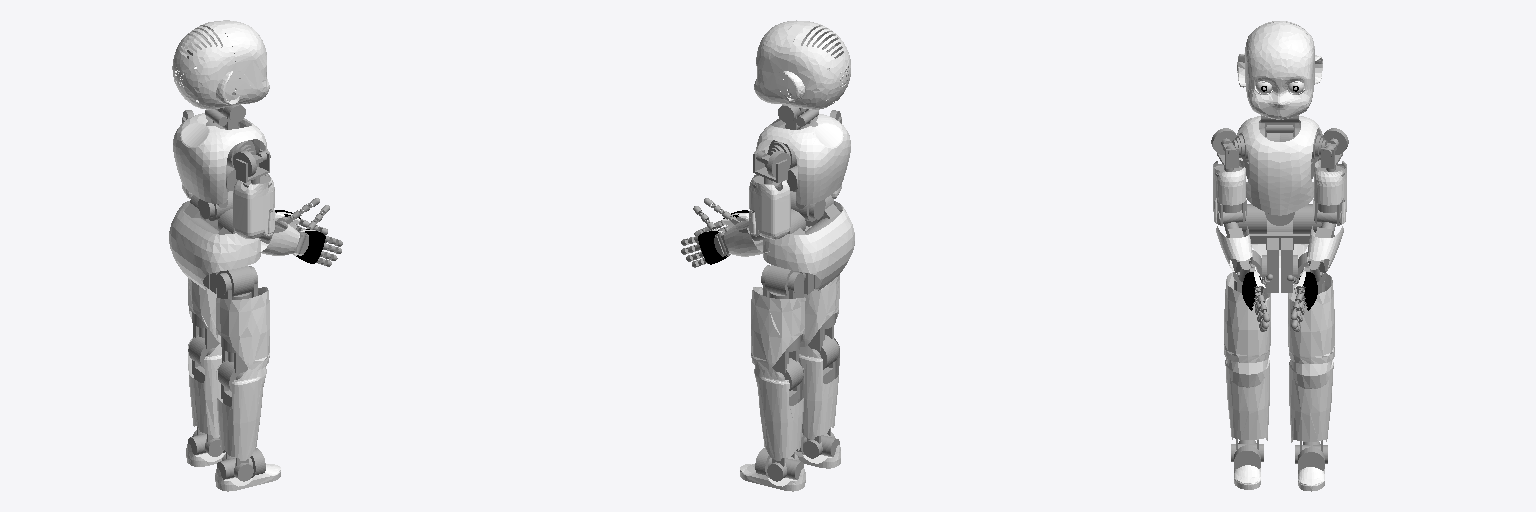
--- What the picture shows (computed from the rendered views, not written in the file) ---
Views: 3 orthographic renders of the robot side by side, from view 1: azimuth 30°, elevation 25°; view 2: azimuth 150°, elevation 25°; view 3: azimuth 270°, elevation 25°.
Model ICub with 94 links and 93 joints (68 revolute, 25 fixed), rooted at base_link, posed joints at zero except 2 at the middle of their limits (raj4 = 1.06, laj4 = 1.06).
Visible links, largest first — view 1: l6, l3, l0, rl3, rl4, ll4, ra3, ll3, rl2, ra5, ra2, rl6 (+2 smaller); view 2: l6, l3, l0, ll3, ll4, rl4, la3, rl3, ll2, la5, la2, ll6 (+2 smaller); view 3: l6, l3, ll4, rl4, ll3, rl3, l0, ra3, la3, la5, ra5, ra2 (+9 smaller).
Boxes of the visible links, x1,y1,x2,y2 form: l6: (172,20,269,109); l3: (173,101,267,203); l0: (169,195,260,289); rl3: (216,287,269,391); rl4: (216,362,266,481); ll4: (188,338,223,456); ra3: (233,174,274,238); ll3: (188,278,220,368); rl2: (215,266,257,299); ra5: (255,221,306,255); ra2: (233,149,270,183); rl6: (215,464,280,491); l6: (754,20,850,109); l3: (756,105,850,204); l0: (763,195,854,290); ll3: (751,287,805,390); ll4: (754,362,804,481); rl4: (799,338,839,458); la3: (749,174,790,239); rl3: (800,275,839,369); ll2: (761,265,803,298); la5: (717,221,769,256); la2: (753,150,790,183); ll6: (740,464,805,491); l6: (1237,21,1322,119); l3: (1237,115,1322,215); ll4: (1289,360,1333,463); rl4: (1225,358,1269,461); ll3: (1288,273,1334,363); rl3: (1224,272,1270,362); l0: (1238,204,1321,267); ra3: (1213,160,1246,225); la3: (1313,160,1346,225); la5: (1307,226,1343,281); ra5: (1216,226,1252,281); ra2: (1211,128,1238,171).
Bounding box of the posed robot: 0.3868 × 0.2964 × 1.05 m (x, y, z).
Meshes: 88 distinct files referenced, 89 mesh visuals loaded (88 Collada DAE).

The robot description file, URDF, robot "ICub":
<?xml version="1.0"?>
<robot name="ICub">


   <link name="base_link">
      <origin rpy="0 0 0" xyz="0 0 0"/>
    <inertial>
      <origin xyz="0 0 0" rpy="0 0 0"/>
      <mass value="0.111"/>
      <inertia
        ixx="0.112" ixy="0.0" ixz="0.0"
        iyy="0.112" iyz="0.0"
        izz="0.112"/>
    </inertial>
   </link>

<!-- HEAD AND WAIST -->

   <link name="l0">
      <visual>
      <origin rpy="0 0 0" xyz="0 0 0"/>
         <geometry>
	    <mesh filename="package://icub_with_hands/meshes/l0.dae"/>
         </geometry>
      </visual>
    <inertial>
      <origin xyz="0 0 0" rpy="0 0 0"/>
      <mass value="0.111"/>
      <inertia
        ixx="0.112" ixy="0.0" ixz="0.0"
        iyy="0.112" iyz="0.0"
        izz="0.112"/>
    </inertial>
   </link>

   <link name="l1">
      <visual>
         <origin rpy="1.5708 0 0" xyz="0.033 0 0"/>
         <geometry>
            <mesh filename="package://icub_with_hands/meshes/l1.dae"/>
         </geometry>
      </visual>
    <inertial>
      <origin xyz="0 0 0" rpy="0 0 0"/>
      <mass value="0.111"/>
      <inertia
        ixx="0.112" ixy="0.0" ixz="0.0"
        iyy="0.112" iyz="0.0"
        izz="0.112"/>
    </inertial>
   </link>

   <link name="l2">
      <visual>
         <origin rpy="1.5708 0 -1.5708" xyz="0 0 -0.0055"/>
         <geometry>
            <mesh filename="package://icub_with_hands/meshes/l2.dae"/>
         </geometry>
      </visual>
    <inertial>
      <origin xyz="0 0 0" rpy="0 0 0"/>
      <mass value="0.111"/>
      <inertia
        ixx="0.112" ixy="0.0" ixz="0.0"
        iyy="0.112" iyz="0.0"
        izz="0.112"/>
    </inertial>
   </link>

   <link name="l3">
      <visual>
         <origin rpy="-1.5708 0 -1.5708" xyz="0 -0.0046 -0.223"/>
         <geometry>
            <mesh filename="package://icub_with_hands/meshes/l3.dae"/>
         </geometry>
      </visual>
    <inertial>
      <origin xyz="0 0 0" rpy="0 0 0"/>
      <mass value="0.111"/>
      <inertia
        ixx="0.112" ixy="0.0" ixz="0.0"
        iyy="0.112" iyz="0.0"
        izz="0.112"/>
    </inertial>
   </link>

   <link name="l4">
      <visual>
         <origin rpy="1.5708 0 1.5708" xyz="0 0.0099 0"/>
         <geometry>
            <mesh filename="package://icub_with_hands/meshes/l4.dae"/>
         </geometry>
      </visual>
    <inertial>
      <origin xyz="0 0 0" rpy="0 0 0"/>
      <mass value="0.111"/>
      <inertia
        ixx="0.112" ixy="0.0" ixz="0.0"
        iyy="0.112" iyz="0.0"
        izz="0.112"/>
    </inertial>
   </link>

   <link name="l5">
      <visual>
         <origin rpy="-1.5708 0 -1.5708" xyz="0 0 0"/>
         <geometry>
            <mesh filename="package://icub_with_hands/meshes/l5.dae"/>
         </geometry>
      </visual>
    <inertial>
      <origin xyz="0 0 0" rpy="0 0 0"/>
      <mass value="0.111"/>
      <inertia
        ixx="0.112" ixy="0.0" ixz="0.0"
        iyy="0.112" iyz="0.0"
        izz="0.112"/>
    </inertial>
   </link>

   <link name="l6">
      <visual>
      <origin rpy="-1.5708 0 1.5708" xyz="0 -0.05150 0.082"/>
         <geometry>
            <mesh filename="package://icub_with_hands/meshes/l6.dae"/>
         </geometry>
      </visual>
    <inertial>
      <origin xyz="0 0 0" rpy="0 0 0"/>
      <mass value="0.111"/>
      <inertia
        ixx="0.112" ixy="0.0" ixz="0.0"
        iyy="0.112" iyz="0.0"
        izz="0.112"/>
    </inertial>
   </link>

   <link name="l7">
    <inertial>
      <origin xyz="0 0 0" rpy="0 0 0"/>
      <mass value="0.111"/>
      <inertia
        ixx="0.112" ixy="0.0" ixz="0.0"
        iyy="0.112" iyz="0.0"
        izz="0.112"/>
    </inertial>
   </link>

   <link name="l8">
      <visual>
      <origin rpy="1.5708 0 -1.5708" xyz="0 0 0"/>
         <geometry>
            <mesh filename="package://icub_with_hands/meshes/l8.dae"/>
         </geometry>
      </visual>
    <inertial>
      <origin xyz="0 0 0" rpy="0 0 0"/>
      <mass value="0.111"/>
      <inertia
        ixx="0.112" ixy="0.0" ixz="0.0"
        iyy="0.112" iyz="0.0"
        izz="0.112"/>
    </inertial>
   </link>

   <link name="l7s">
    <inertial>
      <origin xyz="0 0 0" rpy="0 0 0"/>
      <mass value="0.111"/>
      <inertia
        ixx="0.112" ixy="0.0" ixz="0.0"
        iyy="0.112" iyz="0.0"
        izz="0.112"/>
    </inertial>
   </link>

   <link name="l8s">
      <visual>
      <origin rpy="1.5708 0 -1.5708" xyz="0 0 0"/>
         <geometry>
            <mesh filename="package://icub_with_hands/meshes/l8.dae"/>
         </geometry>
      </visual>
    <inertial>
      <origin xyz="0 0 0" rpy="0 0 0"/>
      <mass value="0.111"/>
      <inertia
        ixx="0.112" ixy="0.0" ixz="0.0"
        iyy="0.112" iyz="0.0"
        izz="0.112"/>
    </inertial>
   </link>

<!-- RIGHT ARM -->

   <link name="ra0">
      <visual>
         <geometry>
            <mesh filename="package://icub_with_hands/meshes/ra0.dae"/>
         </geometry>
      </visual>
    <inertial>
      <origin xyz="0 0 0" rpy="0 0 0"/>
      <mass value="0.111"/>
      <inertia
        ixx="0.112" ixy="0.0" ixz="0.0"
        iyy="0.112" iyz="0.0"
        izz="0.112"/>
    </inertial>
   </link>

   <link name="ra1">
      <visual>
      <origin rpy="1.5708 0 -1.5708" xyz="0 0 -0.1077"/>
         <geometry>
            <mesh filename="package://icub_with_hands/meshes/ra1.dae"/>
         </geometry>
      </visual>
    <inertial>
      <origin xyz="0 0 0" rpy="0 0 0"/>
      <mass value="0.111"/>
      <inertia
        ixx="0.112" ixy="0.0" ixz="0.0"
        iyy="0.112" iyz="0.0"
        izz="0.112"/>
    </inertial>
   </link>

   <link name="ra2">
      <visual>
      <origin rpy="-1.5708 0 -1.5708" xyz="0 0 0"/>
         <geometry>
            <mesh filename="package://icub_with_hands/meshes/ra2.dae"/>
         </geometry>
      </visual>
    <inertial>
      <origin xyz="0 0 0" rpy="0 0 0"/>
      <mass value="0.111"/>
      <inertia
        ixx="0.112" ixy="0.0" ixz="0.0"
        iyy="0.112" iyz="0.0"
        izz="0.112"/>
    </inertial>
   </link>

   <link name="ra3">
      <visual>
      <origin rpy="-1.5708 0 -1.5708" xyz="0.0039 0.0145 -0.15725"/>
         <geometry>
            <mesh filename="package://icub_with_hands/meshes/ra3.dae"/>
         </geometry>
      </visual>
    <inertial>
      <origin xyz="0 0 0" rpy="0 0 0"/>
      <mass value="0.111"/>
      <inertia
        ixx="0.112" ixy="0.0" ixz="0.0"
        iyy="0.112" iyz="0.0"
        izz="0.112"/>
    </inertial>
   </link>

   <link name="ra4">
      <visual>
      <origin rpy="1.5708 0 0" xyz="0.015 0 -0.004"/>
         <geometry>
            <mesh filename="package://icub_with_hands/meshes/ra4.dae"/>
         </geometry>
      </visual>
    <inertial>
      <origin xyz="0 0 0" rpy="0 0 0"/>
      <mass value="0.111"/>
      <inertia
        ixx="0.112" ixy="0.0" ixz="0.0"
        iyy="0.112" iyz="0.0"
        izz="0.112"/>
    </inertial>
   </link>

   <link name="ra5">
      <visual>
      <origin rpy="1.5708 0 -1.5708" xyz="0 0 -0.141"/>
         <geometry>
            <mesh filename="package://icub_with_hands/meshes/ra5.dae"/>
         </geometry>
      </visual>
    <inertial>
      <origin xyz="0 0 0" rpy="0 0 0"/>
      <mass value="0.111"/>
      <inertia
        ixx="0.112" ixy="0.0" ixz="0.0"
        iyy="0.112" iyz="0.0"
        izz="0.112"/>
    </inertial>
   </link>

   <link name="ra6">
      <visual>
      <origin rpy="1.5708 0 1.5708" xyz="0 0 0"/>
         <geometry>
            <mesh filename="package://icub_with_hands/meshes/ra6.dae"/>
         </geometry>
      </visual>
    <inertial>
      <origin xyz="0 0 0" rpy="0 0 0"/>
      <mass value="0.111"/>
      <inertia
        ixx="0.112" ixy="0.0" ixz="0.0"
        iyy="0.112" iyz="0.0"
        izz="0.112"/>
    </inertial>
   </link>

<!-- LEFT ARM -->

   <link name="la0">
      <visual>
         <geometry>
            <mesh filename="package://icub_with_hands/meshes/la0.dae"/>
         </geometry>
      </visual>
    <inertial>
      <origin xyz="0 0 0" rpy="0 0 0"/>
      <mass value="0.111"/>
      <inertia
        ixx="0.112" ixy="0.0" ixz="0.0"
        iyy="0.112" iyz="0.0"
        izz="0.112"/>
    </inertial>
   </link>

   <link name="la1">
      <visual>
      <origin rpy="-1.5708 0 1.5708" xyz="0 0 0.1077"/>
         <geometry>
            <mesh filename="package://icub_with_hands/meshes/la1.dae"/>
         </geometry>
      </visual>
    <inertial>
      <origin xyz="0 0 0" rpy="0 0 0"/>
      <mass value="0.111"/>
      <inertia
        ixx="0.112" ixy="0.0" ixz="0.0"
        iyy="0.112" iyz="0.0"
        izz="0.112"/>
    </inertial>
   </link>

   <link name="la2">
      <visual>
      <origin rpy="1.5708 0 -1.5708" xyz="0 0 0"/>
         <geometry>
            <mesh filename="package://icub_with_hands/meshes/la2.dae"/>
         </geometry>
      </visual>
    <inertial>
      <origin xyz="0 0 0" rpy="0 0 0"/>
      <mass value="0.111"/>
      <inertia
        ixx="0.112" ixy="0.0" ixz="0.0"
        iyy="0.112" iyz="0.0"
        izz="0.112"/>
    </inertial>
   </link>

   <link name="la3">
      <visual>
      <origin rpy="1.5708 0 1.5708" xyz="0.0039 0.0145 0.15725"/>
         <geometry>
            <mesh filename="package://icub_with_hands/meshes/la3.dae"/>
         </geometry>
      </visual>
    <inertial>
      <origin xyz="0 0 0" rpy="0 0 0"/>
      <mass value="0.111"/>
      <inertia
        ixx="0.112" ixy="0.0" ixz="0.0"
        iyy="0.112" iyz="0.0"
        izz="0.112"/>
    </inertial>
   </link>

   <link name="la4">
      <visual>
      <origin rpy="1.5708 0 0" xyz="-0.015 0 -0.004"/>
         <geometry>
            <mesh filename="package://icub_with_hands/meshes/la4.dae"/>
         </geometry>
      </visual>
    <inertial>
      <origin xyz="0 0 0" rpy="0 0 0"/>
      <mass value="0.111"/>
      <inertia
        ixx="0.112" ixy="0.0" ixz="0.0"
        iyy="0.112" iyz="0.0"
        izz="0.112"/>
    </inertial>
   </link>

   <link name="la5">
      <visual>
      <origin rpy="1.5708 0 -1.5708" xyz="0 0 -0.141"/>
         <geometry>
            <mesh filename="package://icub_with_hands/meshes/la5.dae"/>
         </geometry>
      </visual>
    <inertial>
      <origin xyz="0 0 0" rpy="0 0 0"/>
      <mass value="0.111"/>
      <inertia
        ixx="0.112" ixy="0.0" ixz="0.0"
        iyy="0.112" iyz="0.0"
        izz="0.112"/>
    </inertial>
   </link>

   <link name="la6">
      <visual>
      <origin rpy="1.5708 0 1.5708" xyz="0 0 0"/>
         <geometry>
            <mesh filename="package://icub_with_hands/meshes/la6.dae"/>
         </geometry>
      </visual>
    <inertial>
      <origin xyz="0 0 0" rpy="0 0 0"/>
      <mass value="0.111"/>
      <inertia
        ixx="0.112" ixy="0.0" ixz="0.0"
        iyy="0.112" iyz="0.0"
        izz="0.112"/>
    </inertial>
   </link>

<!-- RIGHT LEG -->

   <link name="rl0">
      <visual>
      <origin rpy="0 0 0" xyz="0 0 0"/>
         <geometry>
	    <mesh filename="package://icub_with_hands/meshes/rl0.dae"/>
         </geometry>
      </visual>
    <inertial>
      <origin xyz="0 0 0" rpy="0 0 0"/>
      <mass value="0.111"/>
      <inertia
        ixx="0.112" ixy="0.0" ixz="0.0"
        iyy="0.112" iyz="0.0"
        izz="0.112"/>
    </inertial>
   </link>

   <link name="rl1">
      <visual>
      <origin rpy="1.5708 0 1.5708" xyz="0 0 0"/>
         <geometry>
	    <mesh filename="package://icub_with_hands/meshes/rl1.dae"/>
         </geometry>
      </visual>
    <inertial>
      <origin xyz="0 0 0" rpy="0 0 0"/>
      <mass value="0.111"/>
      <inertia
        ixx="0.112" ixy="0.0" ixz="0.0"
        iyy="0.112" iyz="0.0"
        izz="0.112"/>
    </inertial>
   </link>

   <link name="rl2">
      <visual>
      <origin rpy="1.5708 0 1.5708" xyz="0 0.002 0.008"/>
         <geometry>
	    <mesh filename="package://icub_with_hands/meshes/rl2.dae"/>
         </geometry>
      </visual>
    <inertial>
      <origin xyz="0 0 0" rpy="0 0 0"/>
      <mass value="0.111"/>
      <inertia
        ixx="0.112" ixy="0.0" ixz="0.0"
        iyy="0.112" iyz="0.0"
        izz="0.112"/>
    </inertial>
   </link>

   <link name="rl3">
      <visual>
      <origin rpy="-1.5708 0 -1.5708" xyz="0 0 0.225"/>
         <geometry>
	    <mesh filename="package://icub_with_hands/meshes/rl3.dae"/>
         </geometry>
      </visual>
    <inertial>
      <origin xyz="0 0 0" rpy="0 0 0"/>
      <mass value="0.111"/>
      <inertia
        ixx="0.112" ixy="0.0" ixz="0.0"
        iyy="0.112" iyz="0.0"
        izz="0.112"/>
    </inertial>
   </link>

   <link name="rl4">
      <visual>
      <origin rpy="3.1416 0 1.5708" xyz="0 -0.215 0"/>
         <geometry>
	    <mesh filename="package://icub_with_hands/meshes/rl4.dae"/>
         </geometry>
      </visual>
    <inertial>
      <origin xyz="0 0 0" rpy="0 0 0"/>
      <mass value="0.111"/>
      <inertia
        ixx="0.112" ixy="0.0" ixz="0.0"
        iyy="0.112" iyz="0.0"
        izz="0.112"/>
    </inertial>
   </link>

   <link name="rl5">
      <visual>
      <origin rpy="1.5708 0 0" xyz="0 0 0"/>
         <geometry>
	    <mesh filename="package://icub_with_hands/meshes/rl5.dae"/>
         </geometry>
      </visual>
    <inertial>
      <origin xyz="0 0 0" rpy="0 0 0"/>
      <mass value="0.111"/>
      <inertia
        ixx="0.112" ixy="0.0" ixz="0.0"
        iyy="0.112" iyz="0.0"
        izz="0.112"/>
    </inertial>
   </link>

   <link name="rl6">
      <visual>
      <origin rpy="3.1416 0 0" xyz="-0.041 0 0"/>
         <geometry>
	    <mesh filename="package://icub_with_hands/meshes/rl6.dae"/>
         </geometry>
      </visual>
    <inertial>
      <origin xyz="0 0 0" rpy="0 0 0"/>
      <mass value="0.111"/>
      <inertia
        ixx="0.112" ixy="0.0" ixz="0.0"
        iyy="0.112" iyz="0.0"
        izz="0.112"/>
    </inertial>
   </link>

<!-- LEFT LEG -->

   <link name="ll0">
      <visual>
      <origin rpy="0 0 0" xyz="0 0 0"/>
         <geometry>
	    <mesh filename="package://icub_with_hands/meshes/ll0.dae"/>
         </geometry>
      </visual>
    <inertial>
      <origin xyz="0 0 0" rpy="0 0 0"/>
      <mass value="0.111"/>
      <inertia
        ixx="0.112" ixy="0.0" ixz="0.0"
        iyy="0.112" iyz="0.0"
        izz="0.112"/>
    </inertial>
   </link>

   <link name="ll1">
      <visual>
      <origin rpy="-1.5708 0 1.5708" xyz="0 0 0"/>
         <geometry>
	    <mesh filename="package://icub_with_hands/meshes/ll1.dae"/>
         </geometry>
      </visual>
    <inertial>
      <origin xyz="0 0 0" rpy="0 0 0"/>
      <mass value="0.111"/>
      <inertia
        ixx="0.112" ixy="0.0" ixz="0.0"
        iyy="0.112" iyz="0.0"
        izz="0.112"/>
    </inertial>
   </link>

   <link name="ll2">
      <visual>
      <origin rpy="1.5708 0 -1.5708" xyz="0 0 0"/>
         <geometry>
	    <mesh filename="package://icub_with_hands/meshes/ll2.dae"/>
         </geometry>
      </visual>
    <inertial>
      <origin xyz="0 0 0" rpy="0 0 0"/>
      <mass value="0.111"/>
      <inertia
        ixx="0.112" ixy="0.0" ixz="0.0"
        iyy="0.112" iyz="0.0"
        izz="0.112"/>
    </inertial>
   </link>

   <link name="ll3">
      <visual>
      <origin rpy="1.5708 0 1.5708" xyz="0 0 -0.225"/>
         <geometry>
	    <mesh filename="package://icub_with_hands/meshes/ll3.dae"/>
         </geometry>
      </visual>
    <inertial>
      <origin xyz="0 0 0" rpy="0 0 0"/>
      <mass value="0.111"/>
      <inertia
        ixx="0.112" ixy="0.0" ixz="0.0"
        iyy="0.112" iyz="0.0"
        izz="0.112"/>
    </inertial>
   </link>

   <link name="ll4">
      <visual>
      <origin rpy="3.1416 0 1.5708" xyz="0 -0.215 0"/>
         <geometry>
	    <mesh filename="package://icub_with_hands/meshes/ll4.dae"/>
         </geometry>
      </visual>
    <inertial>
      <origin xyz="0 0 0" rpy="0 0 0"/>
      <mass value="0.111"/>
      <inertia
        ixx="0.112" ixy="0.0" ixz="0.0"
        iyy="0.112" iyz="0.0"
        izz="0.112"/>
    </inertial>
   </link>

   <link name="ll5">
      <visual>
      <origin rpy="-1.5708 0 0" xyz="0 0 0"/>
         <geometry>
	    <mesh filename="package://icub_with_hands/meshes/ll5.dae"/>
         </geometry>
      </visual>
    <inertial>
      <origin xyz="0 0 0" rpy="0 0 0"/>
      <mass value="0.111"/>
      <inertia
        ixx="0.112" ixy="0.0" ixz="0.0"
        iyy="0.112" iyz="0.0"
        izz="0.112"/>
    </inertial>
   </link>

   <link name="ll6">
      <visual>
      <origin rpy="0 0 0" xyz="-0.041 0 0"/>
         <geometry>
	    <mesh filename="package://icub_with_hands/meshes/ll6.dae"/>
         </geometry>
      </visual>
    <inertial>
      <origin xyz="0 0 0" rpy="0 0 0"/>
      <mass value="0.111"/>
      <inertia
        ixx="0.112" ixy="0.0" ixz="0.0"
        iyy="0.112" iyz="0.0"
        izz="0.112"/>
    </inertial>
   </link>

<!-- RIGHT HAND -->

   <link name="right_palm">
      <visual>
      <origin rpy="0 0 3.1416" xyz="-0.0625 0 0.016"/>
         <geometry>
	    <mesh filename="package://icub_with_hands/meshes/right_palm.dae"/>
         </geometry>
      </visual>
    <inertial>
      <origin xyz="0 0 0" rpy="0 0 0"/>
      <mass value="0.111"/>
      <inertia
        ixx="0.112" ixy="0.0" ixz="0.0"
        iyy="0.112" iyz="0.0"
        izz="0.112"/>
    </inertial>
   </link>

   <link name="thumbbase">
    <inertial>
      <origin xyz="0 0 0" rpy="0 0 0"/>
      <mass value="0.111"/>
      <inertia
        ixx="0.112" ixy="0.0" ixz="0.0"
        iyy="0.112" iyz="0.0"
        izz="0.112"/>
    </inertial>
   </link>

   <link name="tl0">
      <visual>
      <origin rpy="-1.5708 0 0" xyz="0 0 0"/>
         <geometry>
	    <mesh filename="package://icub_with_hands/meshes/tl0.dae"/>
         </geometry>
      </visual>
    <inertial>
      <origin xyz="0 0 0" rpy="0 0 0"/>
      <mass value="0.111"/>
      <inertia
        ixx="0.112" ixy="0.0" ixz="0.0"
        iyy="0.112" iyz="0.0"
        izz="0.112"/>
    </inertial>
   </link>

   <link name="tl1">
      <visual>
      <origin rpy="0 0 0" xyz="0.021 0 0.0056"/>
         <geometry>
	    <mesh filename="package://icub_with_hands/meshes/tl1.dae"/>
         </geometry>
      </visual>
    <inertial>
      <origin xyz="0 0 0" rpy="0 0 0"/>
      <mass value="0.111"/>
      <inertia
        ixx="0.112" ixy="0.0" ixz="0.0"
        iyy="0.112" iyz="0.0"
        izz="0.112"/>
    </inertial>
   </link>

   <link name="tl2">
      <visual>
      <origin rpy="0 0 0" xyz="0.026 0 0"/>
         <geometry>
	    <mesh filename="package://icub_with_hands/meshes/tl2.dae"/>
         </geometry>
      </visual>
    <inertial>
      <origin xyz="0 0 0" rpy="0 0 0"/>
      <mass value="0.111"/>
      <inertia
        ixx="0.112" ixy="0.0" ixz="0.0"
        iyy="0.112" iyz="0.0"
        izz="0.112"/>
    </inertial>
   </link>

   <link name="tl3">
      <visual>
      <origin rpy="0 0 0" xyz="0.022 0 0"/>
         <geometry>
	    <mesh filename="package://icub_with_hands/meshes/tl3.dae"/>
         </geometry>
      </visual>
    <inertial>
      <origin xyz="0 0 0" rpy="0 0 0"/>
      <mass value="0.111"/>
      <inertia
        ixx="0.112" ixy="0.0" ixz="0.0"
        iyy="0.112" iyz="0.0"
        izz="0.112"/>
    </inertial>
   </link>

   <link name="tl4">
      <visual>
      <origin rpy="0 0 0" xyz="0.0168 0 0"/>
         <geometry>
	    <mesh filename="package://icub_with_hands/meshes/tl4.dae"/>
         </geometry>
      </visual>
    <inertial>
      <origin xyz="0 0 0" rpy="0 0 0"/>
      <mass value="0.111"/>
      <inertia
        ixx="0.112" ixy="0.0" ixz="0.0"
        iyy="0.112" iyz="0.0"
        izz="0.112"/>
    </inertial>
   </link>

   <link name="indexbase">
      <visual>
      <origin rpy="0.0959 0 0.0175" xyz="0.0018 -0.027 -0.00375"/>
         <geometry>
	    <mesh filename="package://icub_with_hands/meshes/indexbase.dae"/>
         </geometry>
      </visual>
    <inertial>
      <origin xyz="0 0 0" rpy="0 0 0"/>
      <mass value="0.111"/>
      <inertia
        ixx="0.112" ixy="0.0" ixz="0.0"
        iyy="0.112" iyz="0.0"
        izz="0.112"/>
    </inertial>
   </link>

   <link name="il0">
      <visual>
      <origin rpy="1.5708 0 0" xyz="0.0148 0 0"/>
         <geometry>
	    <mesh filename="package://icub_with_hands/meshes/il0.dae"/>
         </geometry>
      </visual>
    <inertial>
      <origin xyz="0 0 0" rpy="0 0 0"/>
      <mass value="0.111"/>
      <inertia
        ixx="0.112" ixy="0.0" ixz="0.0"
        iyy="0.112" iyz="0.0"
        izz="0.112"/>
    </inertial>
   </link>

   <link name="il1">
      <visual>
      <origin rpy="0 0 0" xyz="0.0259 0 0"/>
         <geometry>
	    <mesh filename="package://icub_with_hands/meshes/il1.dae"/>
         </geometry>
      </visual>
    <inertial>
      <origin xyz="0 0 0" rpy="0 0 0"/>
      <mass value="0.111"/>
      <inertia
        ixx="0.112" ixy="0.0" ixz="0.0"
        iyy="0.112" iyz="0.0"
        izz="0.112"/>
    </inertial>
   </link>

   <link name="il2">
      <visual>
      <origin rpy="0 0 0" xyz="0.022 0 0"/>
         <geometry>
	    <mesh filename="package://icub_with_hands/meshes/il2.dae"/>
         </geometry>
      </visual>
    <inertial>
      <origin xyz="0 0 0" rpy="0 0 0"/>
      <mass value="0.111"/>
      <inertia
        ixx="0.112" ixy="0.0" ixz="0.0"
        iyy="0.112" iyz="0.0"
        izz="0.112"/>
    </inertial>
   </link>

   <link name="il3">
      <visual>
      <origin rpy="-1.5708 0 0" xyz="0.0168 0 0"/>
         <geometry>
	    <mesh filename="package://icub_with_hands/meshes/il3.dae"/>
         </geometry>
      </visual>
    <inertial>
      <origin xyz="0 0 0" rpy="0 0 0"/>
      <mass value="0.111"/>
      <inertia
        ixx="0.112" ixy="0.0" ixz="0.0"
        iyy="0.112" iyz="0.0"
        izz="0.112"/>
    </inertial>
   </link>

   <link name="middlebase">
      <visual>
      <origin rpy="0 0 0" xyz="0.0028 -0.01 -0.005"/>
         <geometry>
	    <mesh filename="package://icub_with_hands/meshes/middlebase.dae"/>
         </geometry>
      </visual>
    <inertial>
      <origin xyz="0 0 0" rpy="0 0 0"/>
      <mass value="0.111"/>
      <inertia
        ixx="0.112" ixy="0.0" ixz="0.0"
        iyy="0.112" iyz="0.0"
        izz="0.112"/>
    </inertial>
   </link>

   <link name="ml0">
      <visual>
      <origin rpy="1.5708 0 0" xyz="0.015 0 0"/>
         <geometry>
	    <mesh filename="package://icub_with_hands/meshes/ml0.dae"/>
         </geometry>
      </visual>
    <inertial>
      <origin xyz="0 0 0" rpy="0 0 0"/>
      <mass value="0.111"/>
      <inertia
        ixx="0.112" ixy="0.0" ixz="0.0"
        iyy="0.112" iyz="0.0"
        izz="0.112"/>
    </inertial>
   </link>

   <link name="ml1">
      <visual>
      <origin rpy="0 0 0" xyz="0.0285 0 0"/>
         <geometry>
	    <mesh filename="package://icub_with_hands/meshes/ml1.dae"/>
         </geometry>
      </visual>
    <inertial>
      <origin xyz="0 0 0" rpy="0 0 0"/>
      <mass value="0.111"/>
      <inertia
        ixx="0.112" ixy="0.0" ixz="0.0"
        iyy="0.112" iyz="0.0"
        izz="0.112"/>
    </inertial>
   </link>

   <link name="ml2">
      <visual>
      <origin rpy="0 0 0" xyz="0.0240 0 0"/>
         <geometry>
	    <mesh filename="package://icub_with_hands/meshes/ml2.dae"/>
         </geometry>
      </visual>
    <inertial>
      <origin xyz="0 0 0" rpy="0 0 0"/>
      <mass value="0.111"/>
      <inertia
        ixx="0.112" ixy="0.0" ixz="0.0"
        iyy="0.112" iyz="0.0"
        izz="0.112"/>
    </inertial>
   </link>

   <link name="ml3">
      <visual>
      <origin rpy="-1.5708 0 0" xyz="0.0168 0 0"/>
         <geometry>
	    <mesh filename="package://icub_with_hands/meshes/ml3.dae"/>
         </geometry>
      </visual>
    <inertial>
      <origin xyz="0 0 0" rpy="0 0 0"/>
      <mass value="0.111"/>
      <inertia
        ixx="0.112" ixy="0.0" ixz="0.0"
        iyy="0.112" iyz="0.0"
        izz="0.112"/>
    </inertial>
   </link>

   <link name="ringbase">
      <visual>
      <origin rpy="0.0873 0 0.0087" xyz="0.00165 0.0059 -0.00425"/>
         <geometry>
	    <mesh filename="package://icub_with_hands/meshes/ringbase.dae"/>
         </geometry>
      </visual>
    <inertial>
      <origin xyz="0 0 0" rpy="0 0 0"/>
      <mass value="0.111"/>
      <inertia
        ixx="0.112" ixy="0.0" ixz="0.0"
        iyy="0.112" iyz="0.0"
        izz="0.112"/>
    </inertial>
   </link>

   <link name="ril0">
      <visual>
      <origin rpy="1.5708 0 0" xyz="0.0148 0 0"/>
         <geometry>
	    <mesh filename="package://icub_with_hands/meshes/ril0.dae"/>
         </geometry>
      </visual>
    <inertial>
      <origin xyz="0 0 0" rpy="0 0 0"/>
      <mass value="0.111"/>
      <inertia
        ixx="0.112" ixy="0.0" ixz="0.0"
        iyy="0.112" iyz="0.0"
        izz="0.112"/>
    </inertial>
   </link>

   <link name="ril1">
      <visual>
      <origin rpy="0 0 0" xyz="0.0259 0 0"/>
         <geometry>
	    <mesh filename="package://icub_with_hands/meshes/ril1.dae"/>
         </geometry>
      </visual>
    <inertial>
      <origin xyz="0 0 0" rpy="0 0 0"/>
      <mass value="0.111"/>
      <inertia
        ixx="0.112" ixy="0.0" ixz="0.0"
        iyy="0.112" iyz="0.0"
        izz="0.112"/>
    </inertial>
   </link>

   <link name="ril2">
      <visual>
      <origin rpy="0 0 0" xyz="0.022 0 0"/>
         <geometry>
	    <mesh filename="package://icub_with_hands/meshes/ril2.dae"/>
         </geometry>
      </visual>
    <inertial>
      <origin xyz="0 0 0" rpy="0 0 0"/>
      <mass value="0.111"/>
      <inertia
        ixx="0.112" ixy="0.0" ixz="0.0"
        iyy="0.112" iyz="0.0"
        izz="0.112"/>
    </inertial>
   </link>

   <link name="ril3">
      <visual>
      <origin rpy="-1.5708 0 0" xyz="0.0168 0 0"/>
         <geometry>
	    <mesh filename="package://icub_with_hands/meshes/ril3.dae"/>
         </geometry>
      </visual>
    <inertial>
      <origin xyz="0 0 0" rpy="0 0 0"/>
      <mass value="0.111"/>
      <inertia
        ixx="0.112" ixy="0.0" ixz="0.0"
        iyy="0.112" iyz="0.0"
        izz="0.112"/>
    </inertial>
   </link>

   <link name="littlebase">
      <visual>
      <origin rpy="0.0873 0 0.0175" xyz="-0.00025 0.02475 -0.0025"/>
         <geometry>
	    <mesh filename="package://icub_with_hands/meshes/littlebase.dae"/>
         </geometry>
      </visual>
    <inertial>
      <origin xyz="0 0 0" rpy="0 0 0"/>
      <mass value="0.111"/>
      <inertia
        ixx="0.112" ixy="0.0" ixz="0.0"
        iyy="0.112" iyz="0.0"
        izz="0.112"/>
    </inertial>
   </link>

   <link name="lil0">
      <visual>
      <origin rpy="1.5708 0 0" xyz="0.0148 0 0"/>
         <geometry>
	    <mesh filename="package://icub_with_hands/meshes/lil0.dae"/>
         </geometry>
      </visual>
    <inertial>
      <origin xyz="0 0 0" rpy="0 0 0"/>
      <mass value="0.111"/>
      <inertia
        ixx="0.112" ixy="0.0" ixz="0.0"
        iyy="0.112" iyz="0.0"
        izz="0.112"/>
    </inertial>
   </link>

   <link name="lil1">
      <visual>
      <origin rpy="0 0 0" xyz="0.0218 0 0"/>
         <geometry>
	    <mesh filename="package://icub_with_hands/meshes/lil1.dae"/>
         </geometry>
      </visual>
    <inertial>
      <origin xyz="0 0 0" rpy="0 0 0"/>
      <mass value="0.111"/>
      <inertia
        ixx="0.112" ixy="0.0" ixz="0.0"
        iyy="0.112" iyz="0.0"
        izz="0.112"/>
    </inertial>
   </link>

   <link name="lil2">
      <visual>
      <origin rpy="0 0 0" xyz="0.019 0 0"/>
         <geometry>
	    <mesh filename="package://icub_with_hands/meshes/lil2.dae"/>
         </geometry>
      </visual>
    <inertial>
      <origin xyz="0 0 0" rpy="0 0 0"/>
      <mass value="0.111"/>
      <inertia
        ixx="0.112" ixy="0.0" ixz="0.0"
        iyy="0.112" iyz="0.0"
        izz="0.112"/>
    </inertial>
   </link>

   <link name="lil3">
      <visual>
      <origin rpy="-1.5708 0 0" xyz="0.0168 0 0"/>
         <geometry>
	    <mesh filename="package://icub_with_hands/meshes/lil3.dae"/>
         </geometry>
      </visual>
    <inertial>
      <origin xyz="0 0 0" rpy="0 0 0"/>
      <mass value="0.111"/>
      <inertia
        ixx="0.112" ixy="0.0" ixz="0.0"
        iyy="0.112" iyz="0.0"
        izz="0.112"/>
    </inertial>
   </link>

<!-- LEFT HAND -->

   <link name="left_palm">
      <visual>
      <origin rpy="0 0 0" xyz="-0.0625 0 0.016"/>
         <geometry>
	    <mesh filename="package://icub_with_hands/meshes/left_palm.dae"/>
         </geometry>
      </visual>
    <inertial>
      <origin xyz="0 0 0" rpy="0 0 0"/>
      <mass value="0.111"/>
      <inertia
        ixx="0.112" ixy="0.0" ixz="0.0"
        iyy="0.112" iyz="0.0"
        izz="0.112"/>
    </inertial>
   </link>

   <link name="lthumbbase">
    <inertial>
      <origin xyz="0 0 0" rpy="0 0 0"/>
      <mass value="0.111"/>
      <inertia
        ixx="0.112" ixy="0.0" ixz="0.0"
        iyy="0.112" iyz="0.0"
        izz="0.112"/>
    </inertial>
   </link>

   <link name="ltl0">
      <visual>
      <origin rpy="-1.5708 0 0" xyz="0 0 0"/>
         <geometry>
	    <mesh filename="package://icub_with_hands/meshes/ltl0.dae"/>
         </geometry>
      </visual>
    <inertial>
      <origin xyz="0 0 0" rpy="0 0 0"/>
      <mass value="0.111"/>
      <inertia
        ixx="0.112" ixy="0.0" ixz="0.0"
        iyy="0.112" iyz="0.0"
        izz="0.112"/>
    </inertial>
   </link>

   <link name="ltl1">
      <visual>
      <origin rpy="0 0 0" xyz="0.021 0 -0.0056"/>
         <geometry>
	    <mesh filename="package://icub_with_hands/meshes/ltl1.dae"/>
         </geometry>
      </visual>
    <inertial>
      <origin xyz="0 0 0" rpy="0 0 0"/>
      <mass value="0.111"/>
      <inertia
        ixx="0.112" ixy="0.0" ixz="0.0"
        iyy="0.112" iyz="0.0"
        izz="0.112"/>
    </inertial>
   </link>

   <link name="ltl2">
      <visual>
      <origin rpy="0 0 0" xyz="0.026 0 0"/>
         <geometry>
	    <mesh filename="package://icub_with_hands/meshes/ltl2.dae"/>
         </geometry>
      </visual>
    <inertial>
      <origin xyz="0 0 0" rpy="0 0 0"/>
      <mass value="0.111"/>
      <inertia
        ixx="0.112" ixy="0.0" ixz="0.0"
        iyy="0.112" iyz="0.0"
        izz="0.112"/>
    </inertial>
   </link>

   <link name="ltl3">
      <visual>
      <origin rpy="0 0 0" xyz="0.022 0 0"/>
         <geometry>
	    <mesh filename="package://icub_with_hands/meshes/ltl3.dae"/>
         </geometry>
      </visual>
    <inertial>
      <origin xyz="0 0 0" rpy="0 0 0"/>
      <mass value="0.111"/>
      <inertia
        ixx="0.112" ixy="0.0" ixz="0.0"
        iyy="0.112" iyz="0.0"
        izz="0.112"/>
    </inertial>
   </link>

   <link name="ltl4">
      <visual>
      <origin rpy="0 0 0" xyz="0.0168 0 0"/>
         <geometry>
	    <mesh filename="package://icub_with_hands/meshes/ltl4.dae"/>
         </geometry>
      </visual>
    <inertial>
      <origin xyz="0 0 0" rpy="0 0 0"/>
      <mass value="0.111"/>
      <inertia
        ixx="0.112" ixy="0.0" ixz="0.0"
        iyy="0.112" iyz="0.0"
        izz="0.112"/>
    </inertial>
   </link>

   <link name="lindexbase">
      <visual>
      <origin rpy="0.0959 0 -3.2141" xyz="-0.0018 -0.027 -0.00375"/>
         <geometry>
	    <mesh filename="package://icub_with_hands/meshes/lindexbase.dae"/>
         </geometry>
      </visual>
    <inertial>
      <origin xyz="0 0 0" rpy="0 0 0"/>
      <mass value="0.111"/>
      <inertia
        ixx="0.112" ixy="0.0" ixz="0.0"
        iyy="0.112" iyz="0.0"
        izz="0.112"/>
    </inertial>
   </link>

   <link name="lail0">
      <visual>
      <origin rpy="1.5708 0 0" xyz="0.0148 0 0"/>
         <geometry>
	    <mesh filename="package://icub_with_hands/meshes/lail0.dae"/>
         </geometry>
      </visual>
    <inertial>
      <origin xyz="0 0 0" rpy="0 0 0"/>
      <mass value="0.111"/>
      <inertia
        ixx="0.112" ixy="0.0" ixz="0.0"
        iyy="0.112" iyz="0.0"
        izz="0.112"/>
    </inertial>
   </link>

   <link name="lail1">

      <visual>
      <origin rpy="0 0 0" xyz="0.0259 0 0"/>
         <geometry>
	    <mesh filename="package://icub_with_hands/meshes/lail1.dae"/>
         </geometry>
      </visual>
    <inertial>
      <origin xyz="0 0 0" rpy="0 0 0"/>
      <mass value="0.111"/>
      <inertia
        ixx="0.112" ixy="0.0" ixz="0.0"
        iyy="0.112" iyz="0.0"
        izz="0.112"/>
    </inertial>
   </link>

   <link name="lail2">

      <visual>
      <origin rpy="0 0 0" xyz="0.022 0 0"/>
         <geometry>
	    <mesh filename="package://icub_with_hands/meshes/lail2.dae"/>
         </geometry>
      </visual>
    <inertial>
      <origin xyz="0 0 0" rpy="0 0 0"/>
      <mass value="0.111"/>
      <inertia
        ixx="0.112" ixy="0.0" ixz="0.0"
        iyy="0.112" iyz="0.0"
        izz="0.112"/>
    </inertial>
   </link>

   <link name="lail3">

      <visual>
      <origin rpy="-1.5708 0 0" xyz="0.0168 0 0"/>
         <geometry>
	    <mesh filename="package://icub_with_hands/meshes/lail3.dae"/>
         </geometry>
      </visual>
    <inertial>
      <origin xyz="0 0 0" rpy="0 0 0"/>
      <mass value="0.111"/>
      <inertia
        ixx="0.112" ixy="0.0" ixz="0.0"
        iyy="0.112" iyz="0.0"
        izz="0.112"/>
    </inertial>
   </link>

   <link name="lmiddlebase">

      <visual>
      <origin rpy="0 0 3.1416" xyz="-0.0028 -0.01 -0.005"/>
         <geometry>
	    <mesh filename="package://icub_with_hands/meshes/lmiddlebase.dae"/>
         </geometry>
      </visual>
    <inertial>
      <origin xyz="0 0 0" rpy="0 0 0"/>
      <mass value="0.111"/>
      <inertia
        ixx="0.112" ixy="0.0" ixz="0.0"
        iyy="0.112" iyz="0.0"
        izz="0.112"/>
    </inertial>
   </link>

   <link name="lml0">

      <visual>
      <origin rpy="1.5708 0 0" xyz="0.015 0 0"/>
         <geometry>
	    <mesh filename="package://icub_with_hands/meshes/lml0.dae"/>
         </geometry>
      </visual>
    <inertial>
      <origin xyz="0 0 0" rpy="0 0 0"/>
      <mass value="0.111"/>
      <inertia
        ixx="0.112" ixy="0.0" ixz="0.0"
        iyy="0.112" iyz="0.0"
        izz="0.112"/>
    </inertial>
   </link>

   <link name="lml1">

      <visual>
      <origin rpy="0 0 0" xyz="0.0285 0 0"/>
         <geometry>
	    <mesh filename="package://icub_with_hands/meshes/lml1.dae"/>
         </geometry>
      </visual>
    <inertial>
      <origin xyz="0 0 0" rpy="0 0 0"/>
      <mass value="0.111"/>
      <inertia
        ixx="0.112" ixy="0.0" ixz="0.0"
        iyy="0.112" iyz="0.0"
        izz="0.112"/>
    </inertial>
   </link>

   <link name="lml2">

      <visual>
      <origin rpy="0 0 0" xyz="0.0240 0 0"/>
         <geometry>
	    <mesh filename="package://icub_with_hands/meshes/lml2.dae"/>
         </geometry>
      </visual>
    <inertial>
      <origin xyz="0 0 0" rpy="0 0 0"/>
      <mass value="0.111"/>
      <inertia
        ixx="0.112" ixy="0.0" ixz="0.0"
        iyy="0.112" iyz="0.0"
        izz="0.112"/>
    </inertial>
   </link>

   <link name="lml3">

      <visual>
      <origin rpy="-1.5708 0 0" xyz="0.0168 0 0"/>
         <geometry>
	    <mesh filename="package://icub_with_hands/meshes/lml3.dae"/>
         </geometry>
      </visual>
    <inertial>
      <origin xyz="0 0 0" rpy="0 0 0"/>
      <mass value="0.111"/>
      <inertia
        ixx="0.112" ixy="0.0" ixz="0.0"
        iyy="0.112" iyz="0.0"
        izz="0.112"/>
    </inertial>
   </link>

   <link name="lringbase">

      <visual>
      <origin rpy="-0.0873 0 3.1329" xyz="-0.00165 0.0059 -0.00425"/>
         <geometry>
	    <mesh filename="package://icub_with_hands/meshes/lringbase.dae"/>
         </geometry>
      </visual>
    <inertial>
      <origin xyz="0 0 0" rpy="0 0 0"/>
      <mass value="0.111"/>
      <inertia
        ixx="0.112" ixy="0.0" ixz="0.0"
        iyy="0.112" iyz="0.0"
        izz="0.112"/>
    </inertial>
   </link>

   <link name="lril0">

      <visual>
      <origin rpy="1.5708 0 0" xyz="0.0148 0 0"/>
         <geometry>
	    <mesh filename="package://icub_with_hands/meshes/lril0.dae"/>
         </geometry>
      </visual>
    <inertial>
      <origin xyz="0 0 0" rpy="0 0 0"/>
      <mass value="0.111"/>
      <inertia
        ixx="0.112" ixy="0.0" ixz="0.0"
        iyy="0.112" iyz="0.0"
        izz="0.112"/>
    </inertial>
   </link>

   <link name="lril1">

      <visual>
      <origin rpy="0 0 0" xyz="0.0259 0 0"/>
         <geometry>
	    <mesh filename="package://icub_with_hands/meshes/lril1.dae"/>
         </geometry>
      </visual>
    <inertial>
      <origin xyz="0 0 0" rpy="0 0 0"/>
      <mass value="0.111"/>
      <inertia
        ixx="0.112" ixy="0.0" ixz="0.0"
        iyy="0.112" iyz="0.0"
        izz="0.112"/>
    </inertial>
   </link>

   <link name="lril2">

      <visual>
      <origin rpy="0 0 0" xyz="0.022 0 0"/>
         <geometry>
	    <mesh filename="package://icub_with_hands/meshes/lril2.dae"/>
         </geometry>
      </visual>
    <inertial>
      <origin xyz="0 0 0" rpy="0 0 0"/>
      <mass value="0.111"/>
      <inertia
        ixx="0.112" ixy="0.0" ixz="0.0"
        iyy="0.112" iyz="0.0"
        izz="0.112"/>
    </inertial>
   </link>

   <link name="lril3">

      <visual>
      <origin rpy="-1.5708 0 0" xyz="0.0168 0 0"/>
         <geometry>
	    <mesh filename="package://icub_with_hands/meshes/lril3.dae"/>
         </geometry>
      </visual>
    <inertial>
      <origin xyz="0 0 0" rpy="0 0 0"/>
      <mass value="0.111"/>
      <inertia
        ixx="0.112" ixy="0.0" ixz="0.0"
        iyy="0.112" iyz="0.0"
        izz="0.112"/>
    </inertial>
   </link>

   <link name="llittlebase">

      <visual>
      <origin rpy="-0.0873 0 3.1241" xyz="0.00025 0.02475 -0.0025"/>
         <geometry>
	    <mesh filename="package://icub_with_hands/meshes/llittlebase.dae"/>
         </geometry>
      </visual>
    <inertial>
      <origin xyz="0 0 0" rpy="0 0 0"/>
      <mass value="0.111"/>
      <inertia
        ixx="0.112" ixy="0.0" ixz="0.0"
        iyy="0.112" iyz="0.0"
        izz="0.112"/>
    </inertial>
   </link>

   <link name="llil0">

      <visual>
      <origin rpy="1.5708 0 0" xyz="0.0148 0 0"/>
         <geometry>
	    <mesh filename="package://icub_with_hands/meshes/llil0.dae"/>
         </geometry>
      </visual>
    <inertial>
      <origin xyz="0 0 0" rpy="0 0 0"/>
      <mass value="0.111"/>
      <inertia
        ixx="0.112" ixy="0.0" ixz="0.0"
        iyy="0.112" iyz="0.0"
        izz="0.112"/>
    </inertial>
   </link>

   <link name="llil1">

      <visual>
      <origin rpy="0 0 0" xyz="0.0218 0 0"/>
         <geometry>
	    <mesh filename="package://icub_with_hands/meshes/llil1.dae"/>
         </geometry>
      </visual>
    <inertial>
      <origin xyz="0 0 0" rpy="0 0 0"/>
      <mass value="0.111"/>
      <inertia
        ixx="0.112" ixy="0.0" ixz="0.0"
        iyy="0.112" iyz="0.0"
        izz="0.112"/>
    </inertial>
   </link>

   <link name="llil2">

      <visual>
      <origin rpy="0 0 0" xyz="0.019 0 0"/>
         <geometry>
	    <mesh filename="package://icub_with_hands/meshes/llil2.dae"/>
         </geometry>
      </visual>
    <inertial>
      <origin xyz="0 0 0" rpy="0 0 0"/>
      <mass value="0.111"/>
      <inertia
        ixx="0.112" ixy="0.0" ixz="0.0"
        iyy="0.112" iyz="0.0"
        izz="0.112"/>
    </inertial>
   </link>

   <link name="llil3">

      <visual>
      <origin rpy="-1.5708 0 0" xyz="0.0168 0 0"/>
         <geometry>
	    <mesh filename="package://icub_with_hands/meshes/llil3.dae"/>
         </geometry>
      </visual>
    <inertial>
      <origin xyz="0 0 0" rpy="0 0 0"/>
      <mass value="0.111"/>
      <inertia
        ixx="0.112" ixy="0.0" ixz="0.0"
        iyy="0.112" iyz="0.0"
        izz="0.112"/>
    </inertial>
   </link>



	
<!-- ########################################################## JOINTS #########################################################
##################################################################################################################
##################################################################################################################
##################################################################################################################
##################################################################################################################
##################################################################################################################
################################################################################################################## -->

   <joint name="j0" type="fixed">
      <parent link="base_link"/>
      <child link="l0"/>
      <origin rpy="-1.5708 -1.5708 0"/>
   </joint>

   <joint name="j1" type="revolute">
      <axis xyz="0 0 1"/>
      <limit effort="1000.0" lower="-0.3840" upper="1.2217" velocity="0.5"/>
      <parent link="l0"/>
      <child link="l1"/>
      <origin rpy="0 0 0" xyz="0 0 0"/>
   </joint>

   <joint name="j2" type="revolute">
      <axis xyz="0 0 1"/>
      <limit effort="1000.0" lower="-0.5236" upper="0.5236" velocity="0.5"/>
      <parent link="l1"/>
      <child link="l2"/>
      <origin rpy="1.5708 0 0" xyz="0.033 0 0"/>
   </joint>

   <joint name="j3" type="revolute">
      <axis xyz="0 0 1"/>
      <limit effort="1000.0" lower="-0.8727" upper="0.8727" velocity="0.5"/>
      <parent link="l2"/>
      <child link="l3"/>
      <origin rpy="1.5708 0 -1.5708" xyz="0 0 -0.0055"/>
   </joint>

   <joint name="j4" type="revolute">
      <axis xyz="0 0 1"/>
      <limit effort="1000.0" lower="-0.5236" upper="0.3840" velocity="0.5"/>
      <parent link="l3"/>
      <child link="l4"/>
      <origin rpy="-1.5708 0 -1.5708" xyz="0 -0.0046 -0.223"/>
   </joint>

   <joint name="j5" type="revolute">
      <axis xyz="0 0 1"/>
      <limit effort="1000.0" lower="-0.3491" upper="0.3491" velocity="0.5"/>
      <parent link="l4"/>
      <child link="l5"/>
      <origin rpy="1.5708 0 1.5708" xyz="0 0.0099 0"/>
   </joint>

   <joint name="j6" type="revolute">
      <axis xyz="0 0 1"/>
      <limit effort="1000.0" lower="-0.8727" upper="0.8727" velocity="0.5"/>
      <parent link="l5"/>
      <child link="l6"/>
      <origin rpy="-1.5708 0 -1.5708" xyz="0 0 0"/>
   </joint>

   <joint name="j7" type="revolute">
      <axis xyz="0 0 1"/>
      <limit effort="1000.0" lower="-0.5236" upper="0.5236" velocity="0.5"/>
      <parent link="l6"/>
      <child link="l7"/>
      <origin rpy="-1.5708 0 1.5708" xyz="0 -0.05150 0.082"/>
   </joint>

   <joint name="j8" type="revolute">
      <axis xyz="0 0 1"/>
      <limit effort="1000.0" lower="-0.5236" upper="0.5236" velocity="0.5"/>
      <parent link="l7"/>
      <child link="l8"/>
      <origin rpy="-1.5708 0 0" xyz="0 0 0.034"/>
   </joint>

   <joint name="j7s" type="revolute">
      <axis xyz="0 0 1"/>
      <limit effort="1000.0" lower="-0.5236" upper="0.5236" velocity="0.5"/>
      <parent link="l6"/>
      <child link="l7s"/>
      <origin rpy="-1.5708 0 1.5708" xyz="0 -0.05150 0.082"/>
   </joint>

   <joint name="j8s" type="revolute">
      <axis xyz="0 0 1"/>
      <limit effort="1000.0" lower="-0.5236" upper="0.5236" velocity="0.5"/>
      <parent link="l7s"/>
      <child link="l8s"/>
      <origin rpy="-1.5708 0 0" xyz="0 0 -0.034"/>
   </joint>

   <joint name="raj0" type="fixed">
      <parent link="l4"/>
      <child link="ra0"/>
      <origin rpy="3.1416 0.2618 0" xyz="-0.0248786 -0.08 0.0060472"/>
   </joint>

   <joint name="raj1" type="revolute">
      <axis xyz="0 0 1"/>
      <limit effort="1000.0" lower="-1.6581" upper="0.1745" velocity="0.5"/>
      <parent link="ra0"/>
      <child link="ra1"/>
      <origin rpy="0 0 0" xyz="0 0 0"/>
   </joint>

   <joint name="raj2" type="revolute">
      <axis xyz="0 0 1"/>
      <limit effort="1000.0" lower="0" upper="2.8065" velocity="0.5"/>
      <parent link="ra1"/>
      <child link="ra2"/>
      <origin rpy="1.5708 0 -1.5708" xyz="0 0 -0.1077"/>
   </joint>

   <joint name="raj3" type="revolute">
      <axis xyz="0 0 1"/>
      <limit effort="1000.0" lower="-0.6458" upper="1.3963" velocity="0.5"/>
      <parent link="ra2"/>
      <child link="ra3"/>
      <origin rpy="-1.5708 0 -1.5708" xyz="0 0 0"/>
   </joint>

   <joint name="raj4" type="revolute">
      <axis xyz="0 0 1"/>
      <limit effort="1000.0" lower="0.2618" upper="1.8500" velocity="0.5"/>
      <parent link="ra3"/>
      <child link="ra4"/>
      <origin rpy="-1.5708 0 -1.5708" xyz="0.0039 0.0145 -0.15725"/>
   </joint>

   <joint name="raj5" type="revolute">
      <axis xyz="0 0 1"/>
      <limit effort="1000.0" lower="-1.5708" upper="1.5708" velocity="0.5"/>
      <parent link="ra4"/>
      <child link="ra5"/>
      <origin rpy="1.5708 0 0" xyz="0.015 0 -0.004"/>
   </joint>

   <joint name="raj6" type="revolute">
      <axis xyz="0 0 1"/>
      <limit effort="1000.0" lower="-1.5708" upper="0" velocity="0.5"/>
      <parent link="ra5"/>
      <child link="ra6"/>
      <origin rpy="1.5708 0 -1.5708" xyz="0 0 -0.141"/>
   </joint>

   <joint name="laj0" type="fixed">
      <parent link="l4"/>
      <child link="la0"/>
      <origin rpy="0 2.8798 0" xyz="-0.0248786 -0.08 -0.0060472"/>
   </joint>

   <joint name="laj1" type="revolute">
      <axis xyz="0 0 1"/>
      <limit effort="1000.0" lower="-1.6581" upper="0.1745" velocity="0.5"/>
      <parent link="la0"/>
      <child link="la1"/>
      <origin rpy="0 0 0" xyz="0 0 0"/>
   </joint>

   <joint name="laj2" type="revolute">
      <axis xyz="0 0 1"/>
      <limit effort="1000.0" lower="0" upper="2.8065" velocity="0.5"/>
      <parent link="la1"/>
      <child link="la2"/>
      <origin rpy="-1.5708 0 1.5708" xyz="0 0 0.1077"/>
   </joint>

   <joint name="laj3" type="revolute">
      <axis xyz="0 0 1"/>
      <limit effort="1000.0" lower="-0.6458" upper="1.3963" velocity="0.5"/>
      <parent link="la2"/>
      <child link="la3"/>
      <origin rpy="1.5708 0 -1.5708" xyz="0 0 0"/>
   </joint>

   <joint name="laj4" type="revolute">
      <axis xyz="0 0 -1"/>
      <limit effort="1000.0" lower="0.2618" upper="1.8500" velocity="0.5"/>
      <parent link="la3"/>
      <child link="la4"/>
      <origin rpy="1.5708 0 1.5708" xyz="0.0039 0.0145 0.15725"/>
   </joint>

   <joint name="laj5" type="revolute">
      <axis xyz="0 0 -1"/>
      <limit effort="1000.0" lower="-1.5708" upper="1.5708" velocity="0.5"/>
      <parent link="la4"/>
      <child link="la5"/>
      <origin rpy="1.5708 0 0" xyz="-0.015 0 -0.004"/>
   </joint>

   <joint name="laj6" type="revolute">
      <axis xyz="0 0 1"/>
      <limit effort="1000.0" lower="-1.5708" upper="0" velocity="0.5"/>
      <parent link="la5"/>
      <child link="la6"/>
      <origin rpy="1.5708 0 -1.5708" xyz="0 0 -0.141"/>
   </joint>

   <joint name="rlaj0" type="fixed">
      <parent link="base_link"/>
      <child link="rl0"/>
      <origin rpy="1.5708 3.1416 0" xyz="0 -0.0681 -0.1199"/>
   </joint>

   <joint name="rlaj1" type="revolute">
      <axis xyz="0 0 1"/>
      <limit effort="1000.0" lower="-0.5236" upper="1.5708" velocity="0.5"/>
      <parent link="rl0"/>
      <child link="rl1"/>
      <origin rpy="0 0 0" xyz="0 0 0"/>
   </joint>

   <joint name="rlaj2" type="revolute">
      <axis xyz="0 0 1"/>
      <limit effort="1000.0" lower="0" upper="1.5708" velocity="0.5"/>
      <parent link="rl1"/>
      <child link="rl2"/>
      <origin rpy="1.5708 0 1.5708" xyz="0 0 0"/>
   </joint>

   <joint name="rlaj3" type="revolute">
      <axis xyz="0 0 1"/>
      <limit effort="1000.0" lower="-1.3963" upper="1.3614" velocity="0.5"/>
      <parent link="rl2"/>
      <child link="rl3"/>
      <origin rpy="1.5708 0 1.5708" xyz="0 0.002 0.008"/>
   </joint>

   <joint name="rlaj4" type="revolute">
      <axis xyz="0 0 1"/>
      <limit effort="1000.0" lower="-2.0944" upper="0" velocity="0.5"/>
      <parent link="rl3"/>
      <child link="rl4"/>
      <origin rpy="-1.5708 0 -1.5708" xyz="0 0 0.225"/>
   </joint>

   <joint name="rlaj5" type="revolute">
      <axis xyz="0 0 1"/>
      <limit effort="1000.0" lower="-0.3491" upper="0.6807" velocity="0.5"/>
      <parent link="rl4"/>
      <child link="rl5"/>
      <origin rpy="3.1416 0 1.5708" xyz="0 -0.215 0"/>
   </joint>

   <joint name="rlaj6" type="revolute">
      <axis xyz="0 0 1"/>
      <limit effort="1000.0" lower="-0.3840" upper="0.3840" velocity="0.5"/>
      <parent link="rl5"/>
      <child link="rl6"/>
      <origin rpy="1.5708 0 0" xyz="0 0 0"/>
   </joint>

   <joint name="llaj0" type="fixed">
      <parent link="base_link"/>
      <child link="ll0"/>
      <origin rpy="1.5708 3.1416 0" xyz="0 0.0681 -0.1199"/>
   </joint>

   <joint name="llaj1" type="revolute">
      <axis xyz="0 0 1"/>
      <limit effort="1000.0" lower="-0.5236" upper="1.5708" velocity="0.5"/>
      <parent link="ll0"/>
      <child link="ll1"/>
      <origin rpy="0 0 0" xyz="0 0 0"/>
   </joint>

   <joint name="llaj2" type="revolute">
      <axis xyz="0 0 1"/>
      <limit effort="1000.0" lower="0" upper="1.5708" velocity="0.5"/>
      <parent link="ll1"/>
      <child link="ll2"/>
      <origin rpy="-1.5708 0 1.5708" xyz="0 0 0"/>
   </joint>

   <joint name="llaj3" type="revolute">
      <axis xyz="0 0 1"/>
      <limit effort="1000.0" lower="-1.3963" upper="1.3614" velocity="0.5"/>
      <parent link="ll2"/>
      <child link="ll3"/>
      <origin rpy="1.5708 0 -1.5708" xyz="0 0 0"/>
   </joint>

   <joint name="llaj4" type="revolute">
      <axis xyz="0 0 1"/>
      <limit effort="1000.0" lower="-2.0944" upper="0" velocity="0.5"/>
      <parent link="ll3"/>
      <child link="ll4"/>
      <origin rpy="1.5708 0 1.5708" xyz="0 0 -0.225"/>
   </joint>

   <joint name="llaj5" type="revolute">
      <axis xyz="0 0 1"/>
      <limit effort="1000.0" lower="-0.3491" upper="0.6807" velocity="0.5"/>
      <parent link="ll4"/>
      <child link="ll5"/>
      <origin rpy="3.1416 0 1.5708" xyz="0 -0.215 0"/>
   </joint>

   <joint name="llaj6" type="revolute">
      <axis xyz="0 0 1"/>
      <limit effort="1000.0" lower="-0.3840" upper="0.3840" velocity="0.5"/>
      <parent link="ll5"/>
      <child link="ll6"/>
      <origin rpy="-1.5708 0 0" xyz="0 0 0"/>
   </joint>

<!-- RIGHT HAND -->

   <joint name="right_wrist_yaw" type="revolute">
      <axis xyz="0 0 1"/>
      <limit effort="1000.0" lower="-0.3491" upper="0.6981" velocity="0.5"/>
      <parent link="ra6"/>
      <child link="right_palm"/>
      <origin rpy="1.5708 0 1.5708" xyz="0 0 0"/>
   </joint>

   <joint name="tj1" type="fixed">
      <parent link="right_palm"/>
      <child link="thumbbase"/>
      <origin rpy="0 0 3.1416" xyz="-0.0625 0 0.016"/>
   </joint>

   <joint name="tj2" type="revolute">
      <axis xyz="0 0 1"/>
      <limit effort="1000.0" lower="0" upper="1.5708" velocity="0.5"/>
      <parent link="thumbbase"/>
      <child link="tl0"/>
      <origin rpy="1.4922 0 -1.0733" xyz="-0.0239 -0.01235 0.005"/>
   </joint>

   <joint name="tj3" type="fixed">
      <parent link="tl0"/>
      <child link="tl1"/>
      <origin rpy="-1.5708 0 0" xyz="0 0 0"/>
   </joint>

   <joint name="tj4" type="revolute">
      <axis xyz="0 0 1"/>
      <limit effort="1000.0" lower="0" upper="1.5708" velocity="0.5"/>
      <parent link="tl1"/>
      <child link="tl2"/>
      <origin rpy="0 0 0" xyz="0.021 0 0.0056"/>
   </joint>

   <joint name="tj5" type="revolute">
      <axis xyz="0 0 1"/>
      <limit effort="1000.0" lower="0" upper="1.5708" velocity="0.5"/>
      <parent link="tl2"/>
      <child link="tl3"/>
      <origin rpy="0 0 0" xyz="0.026 0 0"/>
   </joint>

   <joint name="tj6" type="revolute">
      <axis xyz="0 0 1"/>
      <limit effort="1000.0" lower="0" upper="1.5708" velocity="0.5"/>
      <parent link="tl3"/>
      <child link="tl4"/>
      <origin rpy="0 0 0" xyz="0.022 0 0"/>
   </joint>

   <joint name="ij1" type="fixed">
      <parent link="right_palm"/>
      <child link="indexbase"/>
      <origin rpy="0 0 3.1416" xyz="-0.0625 0 0.016"/>
   </joint>

   <joint name="ij2" type="fixed">
      <parent link="indexbase"/>
      <child link="il0"/>
      <origin rpy="0.0959 0 0.0175" xyz="0.0018 -0.027 -0.00375"/>
   </joint>

   <joint name="ij3" type="revolute">
      <axis xyz="0 0 1"/>
      <limit effort="1000.0" lower="0" upper="1.5708" velocity="0.5"/>
      <parent link="il0"/>
      <child link="il1"/>
      <origin rpy="1.5708 0 0" xyz="0.0148 0 0"/>
   </joint>

   <joint name="ij4" type="revolute">
      <axis xyz="0 0 1"/>
      <limit effort="1000.0" lower="0" upper="1.5708" velocity="0.5"/>
      <parent link="il1"/>
      <child link="il2"/>
      <origin rpy="0 0 0" xyz="0.0259 0 0"/>
   </joint>

   <joint name="ij5" type="revolute">
      <axis xyz="0 0 1"/>
      <limit effort="1000.0" lower="0" upper="1.5708" velocity="0.5"/>
      <parent link="il2"/>
      <child link="il3"/>
      <origin rpy="0 0 0" xyz="0.022 0 0"/>
   </joint>

   <joint name="mj1" type="fixed">
      <parent link="right_palm"/>
      <child link="middlebase"/>
      <origin rpy="0 0 3.1416" xyz="-0.0625 0 0.016"/>
   </joint>

   <joint name="mj2" type="fixed">
      <parent link="middlebase"/>
      <child link="ml0"/>
      <origin rpy="0 0 0" xyz="0.0028 -0.01 -0.005"/>
   </joint>

   <joint name="mj3" type="revolute">
      <axis xyz="0 0 1"/>
      <limit effort="1000.0" lower="0" upper="1.5708" velocity="0.5"/>
      <parent link="ml0"/>
      <child link="ml1"/>
      <origin rpy="1.5708 0 0" xyz="0.015 0 0"/>
   </joint>

   <joint name="mj4" type="revolute">
      <axis xyz="0 0 1"/>
      <limit effort="1000.0" lower="0" upper="1.5708" velocity="0.5"/>
      <parent link="ml1"/>
      <child link="ml2"/>
      <origin rpy="0 0 0" xyz="0.0285 0 0"/>
   </joint>

   <joint name="mj5" type="revolute">
      <axis xyz="0 0 1"/>
      <limit effort="1000.0" lower="0" upper="1.5708" velocity="0.5"/>
      <parent link="ml2"/>
      <child link="ml3"/>
      <origin rpy="0 0 0" xyz="0.0240 0 0"/>
   </joint>

   <joint name="rij1" type="fixed">
      <parent link="right_palm"/>
      <child link="ringbase"/>
      <origin rpy="0 0 3.1416" xyz="-0.0625 0 0.016"/>
   </joint>

   <joint name="rij2" type="fixed">
      <parent link="ringbase"/>
      <child link="ril0"/>
      <origin rpy="0.0873 0 0.0087" xyz="0.00165 0.0059 -0.00425"/>
   </joint>

   <joint name="rij3" type="revolute">
      <axis xyz="0 0 1"/>
      <limit effort="1000.0" lower="0" upper="1.5708" velocity="0.5"/>
      <parent link="ril0"/>
      <child link="ril1"/>
      <origin rpy="1.5708 0 0" xyz="0.0148 0 0"/>
   </joint>

   <joint name="rij4" type="revolute">
      <axis xyz="0 0 1"/>
      <limit effort="1000.0" lower="0" upper="1.5708" velocity="0.5"/>
      <parent link="ril1"/>
      <child link="ril2"/>
      <origin rpy="0 0 0" xyz="0.0259 0 0"/>
   </joint>

   <joint name="rij5" type="revolute">
      <axis xyz="0 0 1"/>
      <limit effort="1000.0" lower="0" upper="1.5708" velocity="0.5"/>
      <parent link="ril2"/>
      <child link="ril3"/>
      <origin rpy="0 0 0" xyz="0.022 0 0"/>
   </joint>

   <joint name="lij1" type="fixed">
      <parent link="right_palm"/>
      <child link="littlebase"/>
      <origin rpy="0 0 3.1416" xyz="-0.0625 0 0.016"/>
   </joint>

   <joint name="lij2" type="fixed">
      <parent link="littlebase"/>
      <child link="lil0"/>
      <origin rpy="0.0873 0 0.0175" xyz="-0.00025 0.02475 -0.0025"/>
   </joint>

   <joint name="lij3" type="revolute">
      <axis xyz="0 0 1"/>
      <limit effort="1000.0" lower="0" upper="1.5708" velocity="0.5"/>
      <parent link="lil0"/>
      <child link="lil1"/>
      <origin rpy="1.5708 0 0" xyz="0.0148 0 0"/>
   </joint>

   <joint name="lij4" type="revolute">
      <axis xyz="0 0 1"/>
      <limit effort="1000.0" lower="0" upper="1.5708" velocity="0.5"/>
      <parent link="lil1"/>
      <child link="lil2"/>
      <origin rpy="0 0 0" xyz="0.0218 0 0"/>
   </joint>

   <joint name="lij5" type="revolute">
      <axis xyz="0 0 1"/>
      <limit effort="1000.0" lower="0" upper="1.5708" velocity="0.5"/>
      <parent link="lil2"/>
      <child link="lil3"/>
      <origin rpy="0 0 0" xyz="0.019 0 0"/>
   </joint>

<!-- LEFT HAND -->

   <joint name="left_wrist_yaw" type="revolute">
      <axis xyz="0 0 1"/>
      <limit effort="1000.0" lower="-0.3491" upper="0.6981" velocity="0.5"/>
      <parent link="la6"/>
      <child link="left_palm"/>
      <origin rpy="1.5708 0 1.5708" xyz="0 0 0"/>
   </joint>

   <joint name="ltj1" type="fixed">
      <parent link="left_palm"/>
      <child link="lthumbbase"/>
      <origin rpy="0 0 0" xyz="-0.0625 0 0.016"/>
   </joint>

   <joint name="ltj2" type="revolute">
      <axis xyz="0 0 -1"/>
      <limit effort="1000.0" lower="0" upper="1.5708" velocity="0.5"/>
      <parent link="lthumbbase"/>
      <child link="ltl0"/>
      <origin rpy="-1.4922 0 -2.0683" xyz="0.0239 -0.01235 0.005"/>
   </joint>

   <joint name="ltj3" type="fixed">
      <parent link="ltl0"/>
      <child link="ltl1"/>
      <origin rpy="-1.5708 0 0" xyz="0 0 0"/>
   </joint>

   <joint name="ltj4" type="revolute">
      <axis xyz="0 0 1"/>
      <limit effort="1000.0" lower="0" upper="1.5708" velocity="0.5"/>
      <parent link="ltl1"/>
      <child link="ltl2"/>
      <origin rpy="0 0 0" xyz="0.021 0 -0.0056"/>
   </joint>

   <joint name="ltj5" type="revolute">
      <axis xyz="0 0 1"/>
      <limit effort="1000.0" lower="0" upper="1.5708" velocity="0.5"/>
      <parent link="ltl2"/>
      <child link="ltl3"/>
      <origin rpy="0 0 0" xyz="0.026 0 0"/>
   </joint>

   <joint name="ltj6" type="revolute">
      <axis xyz="0 0 1"/>
      <limit effort="1000.0" lower="0" upper="1.5708" velocity="0.5"/>
      <parent link="ltl3"/>
      <child link="ltl4"/>
      <origin rpy="0 0 0" xyz="0.022 0 0"/>
   </joint>

   <joint name="laij1" type="fixed">
      <parent link="left_palm"/>
      <child link="lindexbase"/>
      <origin rpy="0 0 0" xyz="-0.0625 0 0.016"/>
   </joint>

   <joint name="laij2" type="fixed">
      <parent link="lindexbase"/>
      <child link="lail0"/>
      <origin rpy="0.0959 0 -3.1241" xyz="0.0018 -0.027 -0.00375"/>
   </joint>

   <joint name="laij3" type="revolute">
      <axis xyz="0 0 1"/>
      <limit effort="1000.0" lower="0" upper="1.5708" velocity="0.5"/>
      <parent link="lail0"/>
      <child link="lail1"/>
      <origin rpy="1.5708 0 0" xyz="0.0148 0 0"/>
   </joint>

   <joint name="laij4" type="revolute">
      <axis xyz="0 0 1"/>
      <limit effort="1000.0" lower="0" upper="1.5708" velocity="0.5"/>
      <parent link="lail1"/>
      <child link="lail2"/>
      <origin rpy="0 0 0" xyz="0.0259 0 0"/>
   </joint>

   <joint name="laij5" type="revolute">
      <axis xyz="0 0 1"/>
      <limit effort="1000.0" lower="0" upper="1.5708" velocity="0.5"/>
      <parent link="lail2"/>
      <child link="lail3"/>
      <origin rpy="0 0 0" xyz="0.022 0 0"/>
   </joint>

   <joint name="lmj1" type="fixed">
      <parent link="left_palm"/>
      <child link="lmiddlebase"/>
      <origin rpy="0 0 0" xyz="-0.0625 0 0.016"/>
   </joint>

   <joint name="lmj2" type="fixed">
      <parent link="lmiddlebase"/>
      <child link="lml0"/>
      <origin rpy="0 0 3.1416" xyz="-0.0028 -0.01 -0.005"/>
   </joint>

   <joint name="lmj3" type="revolute">
      <axis xyz="0 0 1"/>
      <limit effort="1000.0" lower="0" upper="1.5708" velocity="0.5"/>
      <parent link="lml0"/>
      <child link="lml1"/>
      <origin rpy="1.5708 0 0" xyz="0.015 0 0"/>
   </joint>

   <joint name="lmj4" type="revolute">
      <axis xyz="0 0 1"/>
      <limit effort="1000.0" lower="0" upper="1.5708" velocity="0.5"/>
      <parent link="lml1"/>
      <child link="lml2"/>
      <origin rpy="0 0 0" xyz="0.0285 0 0"/>
   </joint>

   <joint name="lmj5" type="revolute">
      <axis xyz="0 0 1"/>
      <limit effort="1000.0" lower="0" upper="1.5708" velocity="0.5"/>
      <parent link="lml2"/>
      <child link="lml3"/>
      <origin rpy="0 0 0" xyz="0.0240 0 0"/>
   </joint>

   <joint name="lrij1" type="fixed">
      <parent link="left_palm"/>
      <child link="lringbase"/>
      <origin rpy="0 0 0" xyz="-0.0625 0 0.016"/>
   </joint>

   <joint name="lrij2" type="fixed">
      <parent link="lringbase"/>
      <child link="lril0"/>
      <origin rpy="-0.0873 0 3.1329" xyz="-0.00165 0.0059 -0.00425"/>
   </joint>

   <joint name="lrij3" type="revolute">
      <axis xyz="0 0 1"/>
      <limit effort="1000.0" lower="0" upper="1.5708" velocity="0.5"/>
      <parent link="lril0"/>
      <child link="lril1"/>
      <origin rpy="1.5708 0 0" xyz="0.0148 0 0"/>
   </joint>

   <joint name="lrij4" type="revolute">
      <axis xyz="0 0 1"/>
      <limit effort="1000.0" lower="0" upper="1.5708" velocity="0.5"/>
      <parent link="lril1"/>
      <child link="lril2"/>
      <origin rpy="0 0 0" xyz="0.0259 0 0"/>
   </joint>

   <joint name="lrij5" type="revolute">
      <axis xyz="0 0 1"/>
      <limit effort="1000.0" lower="0" upper="1.5708" velocity="0.5"/>
      <parent link="lril2"/>
      <child link="lril3"/>
      <origin rpy="0 0 0" xyz="0.022 0 0"/>
   </joint>

   <joint name="llij1" type="fixed">
      <parent link="left_palm"/>
      <child link="llittlebase"/>
      <origin rpy="0 0 0" xyz="-0.0625 0 0.016"/>
   </joint>

   <joint name="llij2" type="fixed">
      <parent link="llittlebase"/>
      <child link="llil0"/>
      <origin rpy="-0.0873 0 3.1241" xyz="0.00025 0.02475 -0.0025"/>
   </joint>

   <joint name="llij3" type="revolute">
      <axis xyz="0 0 1"/>
      <limit effort="1000.0" lower="0" upper="1.5708" velocity="0.5"/>
      <parent link="llil0"/>
      <child link="llil1"/>
      <origin rpy="1.5708 0 0" xyz="0.0148 0 0"/>
   </joint>

   <joint name="llij4" type="revolute">
      <axis xyz="0 0 1"/>
      <limit effort="1000.0" lower="0" upper="1.5708" velocity="0.5"/>
      <parent link="llil1"/>
      <child link="llil2"/>
      <origin rpy="0 0 0" xyz="0.0218 0 0"/>
   </joint>

   <joint name="llij5" type="revolute">
      <axis xyz="0 0 1"/>
      <limit effort="1000.0" lower="0" upper="1.5708" velocity="0.5"/>
      <parent link="llil2"/>
      <child link="llil3"/>
      <origin rpy="0 0 0" xyz="0.019 0 0"/>
   </joint>


</robot>
